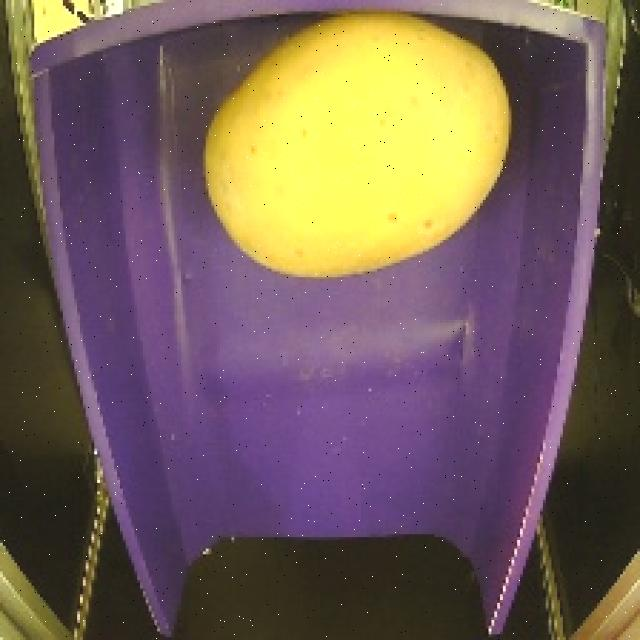full_potato: (197, 0, 524, 288)
